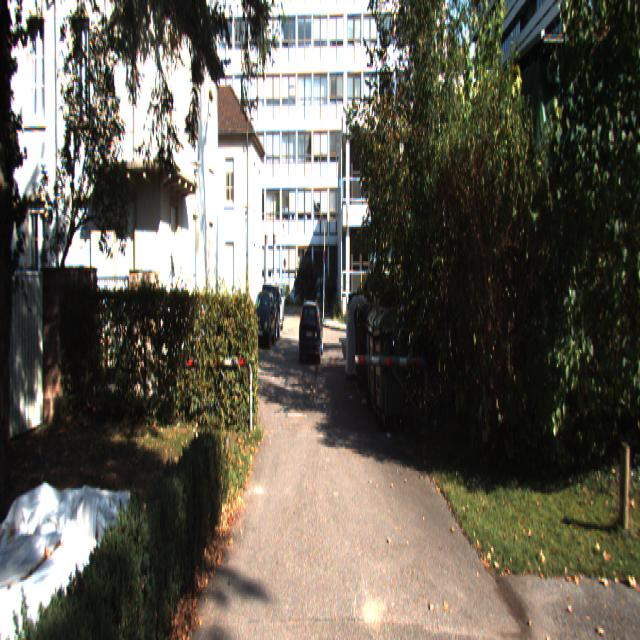Car: (298, 300, 325, 364), (250, 291, 276, 349), (258, 282, 280, 344)
